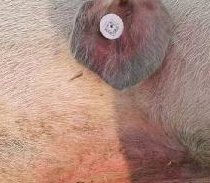text: (89, 4, 135, 44)
